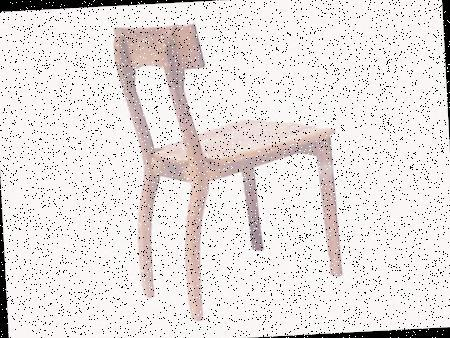Silla: (107, 14, 361, 334)
